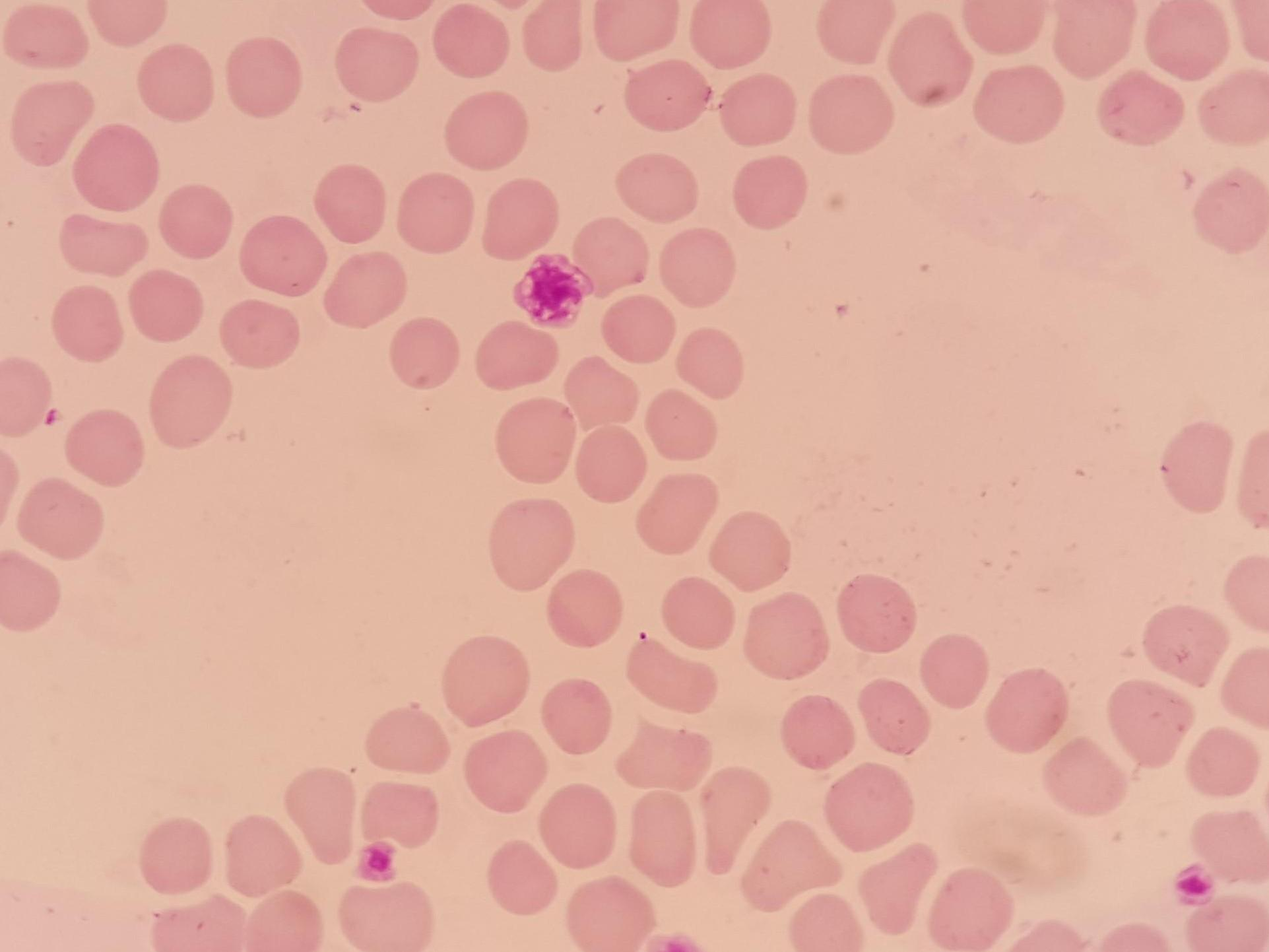Uninfected: (741, 822, 847, 914), (698, 766, 776, 879), (487, 497, 578, 591), (439, 636, 530, 729), (8, 80, 100, 167), (888, 14, 975, 106), (150, 354, 232, 449), (1109, 679, 1194, 770), (627, 786, 699, 893), (983, 665, 1070, 753), (930, 865, 1017, 952), (825, 760, 913, 846), (69, 126, 160, 209), (238, 217, 330, 299), (1095, 68, 1186, 148), (1043, 733, 1127, 819), (17, 476, 104, 559), (742, 593, 826, 678), (442, 93, 528, 176), (860, 845, 939, 935), (614, 720, 710, 794), (975, 66, 1067, 142), (495, 398, 576, 484), (1053, 0, 1140, 80), (566, 872, 654, 951), (1147, 2, 1231, 84), (638, 469, 718, 555), (465, 723, 543, 811), (337, 882, 435, 952), (285, 765, 352, 867), (325, 250, 408, 331), (221, 812, 302, 895), (629, 641, 718, 716), (1142, 604, 1223, 686), (813, 73, 894, 155), (478, 177, 557, 261), (1160, 421, 1232, 513), (836, 575, 919, 654), (624, 60, 714, 132), (224, 40, 306, 119), (709, 510, 792, 587), (543, 783, 615, 871), (310, 162, 386, 245), (396, 174, 474, 254), (572, 425, 650, 505), (365, 707, 454, 777), (1193, 169, 1266, 254), (64, 410, 142, 488), (139, 43, 215, 123), (478, 319, 559, 394), (782, 694, 859, 772), (719, 68, 795, 147), (660, 228, 735, 308), (548, 566, 621, 648), (731, 152, 806, 231), (56, 217, 152, 278), (574, 217, 649, 295), (483, 837, 557, 916), (561, 357, 636, 434), (158, 185, 233, 262), (218, 299, 301, 368), (1198, 66, 1269, 146), (49, 284, 120, 364), (3, 7, 90, 72), (858, 674, 931, 751), (688, 0, 766, 72), (921, 632, 992, 711), (1194, 806, 1269, 880), (130, 268, 203, 344), (139, 816, 212, 892), (434, 7, 512, 78), (615, 155, 697, 222), (1186, 727, 1260, 801), (338, 28, 415, 98), (642, 390, 719, 460), (599, 297, 677, 366), (660, 575, 735, 646), (815, 0, 896, 65), (360, 781, 437, 848), (244, 888, 324, 952), (543, 682, 611, 757), (594, 0, 677, 60), (673, 327, 743, 397), (960, 0, 1047, 56), (393, 317, 459, 389), (787, 895, 868, 952), (525, 0, 587, 73), (0, 555, 61, 629), (1189, 897, 1269, 952)
